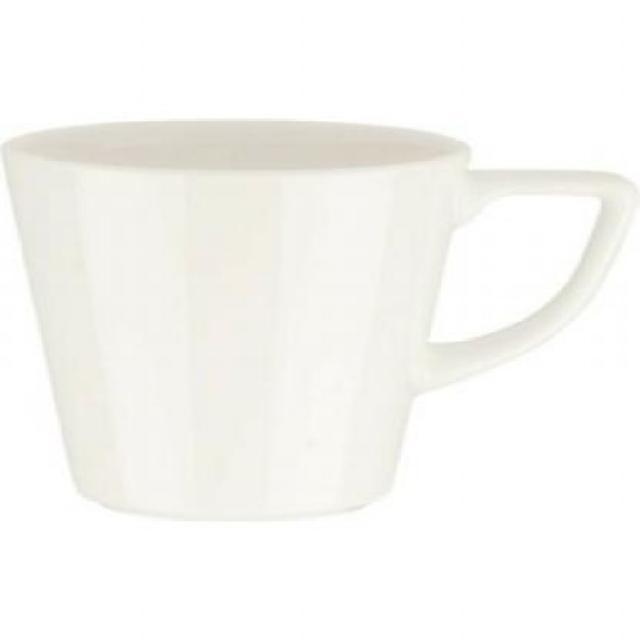taza: (0, 119, 619, 526)
